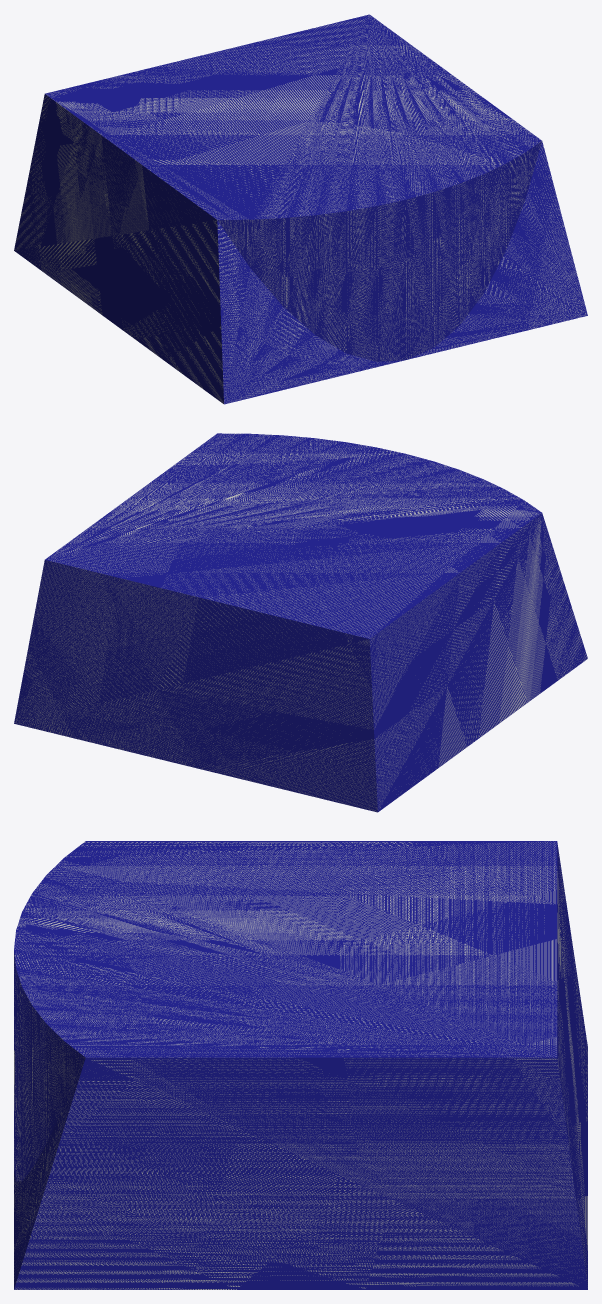
File: original-10.obj
3 renders of one model, top to bottom at view 1: azimuth 30°, elevation 25°; view 2: azimuth 150°, elevation 25°; view 3: azimuth 270°, elevation 25°, orthographic. The views are drawn at different scales.
Parts seen in each view (by area): view 1: Gray_Single_Keycap7/Gray_Single_Keycap/mesh8/mesh8-geometry#mesh; view 2: Gray_Single_Keycap7/Gray_Single_Keycap/mesh8/mesh8-geometry#mesh; view 3: Gray_Single_Keycap7/Gray_Single_Keycap/mesh8/mesh8-geometry#mesh.
Part boxes in pixels (box(x1,y1,x2,y2)): Gray_Single_Keycap7/Gray_Single_Keycap/mesh8/mesh8-geometry#mesh: box(14, 14, 587, 404); Gray_Single_Keycap7/Gray_Single_Keycap/mesh8/mesh8-geometry#mesh: box(14, 433, 587, 812); Gray_Single_Keycap7/Gray_Single_Keycap/mesh8/mesh8-geometry#mesh: box(14, 841, 587, 1289).
Bounding box in the file's own units: 0.0977 × 0.0412 × 0.0977.
